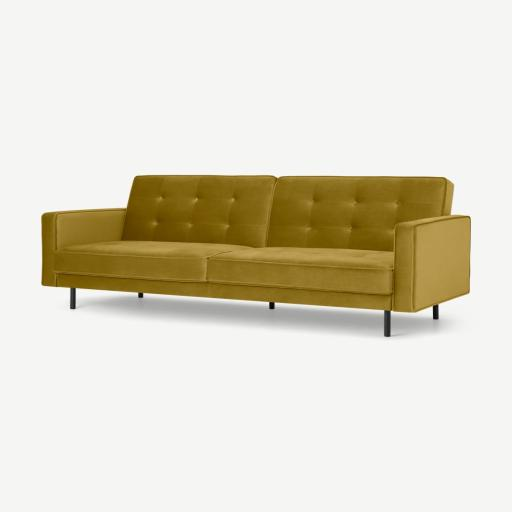back_cushion: (123, 176, 448, 250)
base: (58, 274, 391, 309)
left_arm: (395, 216, 469, 318)
legs: (384, 310, 390, 337), (70, 289, 75, 309), (432, 305, 438, 319), (269, 302, 274, 309), (138, 293, 143, 298)
right_arm: (42, 209, 125, 286)
seat_cushion: (58, 242, 392, 294)
two-seater: (0, 0, 511, 512)
